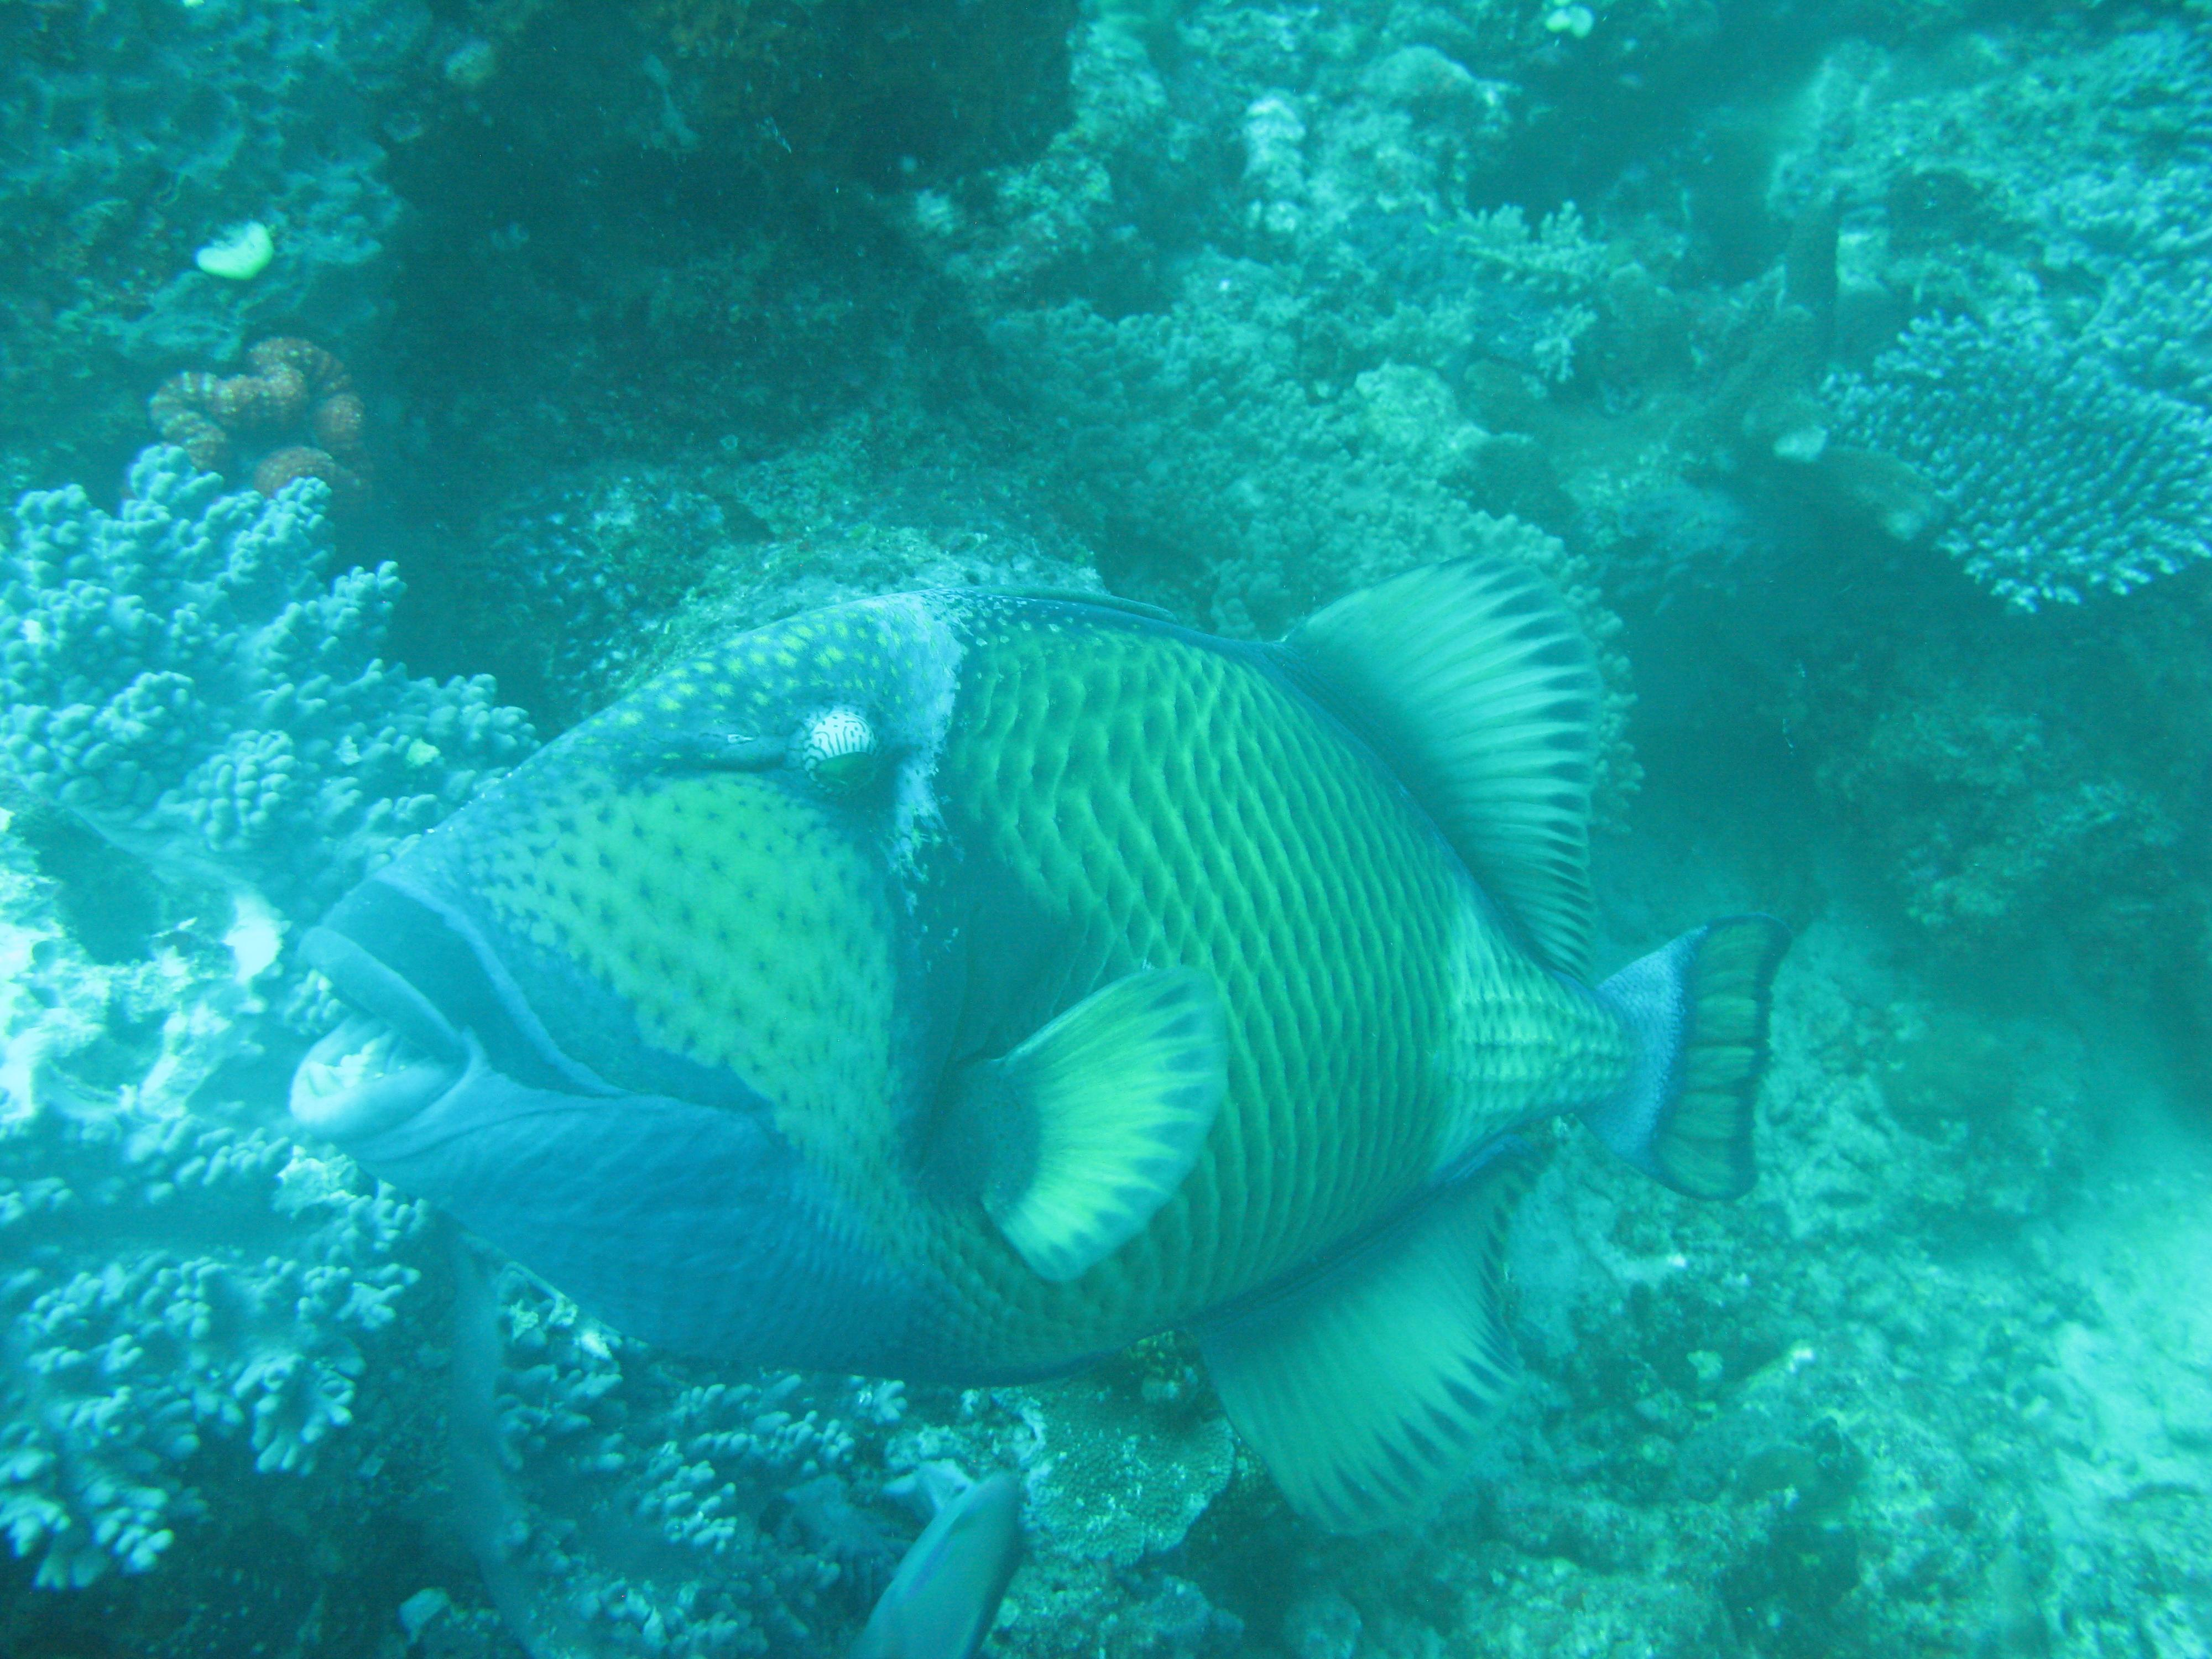Fish: (254, 519, 1787, 1537)
